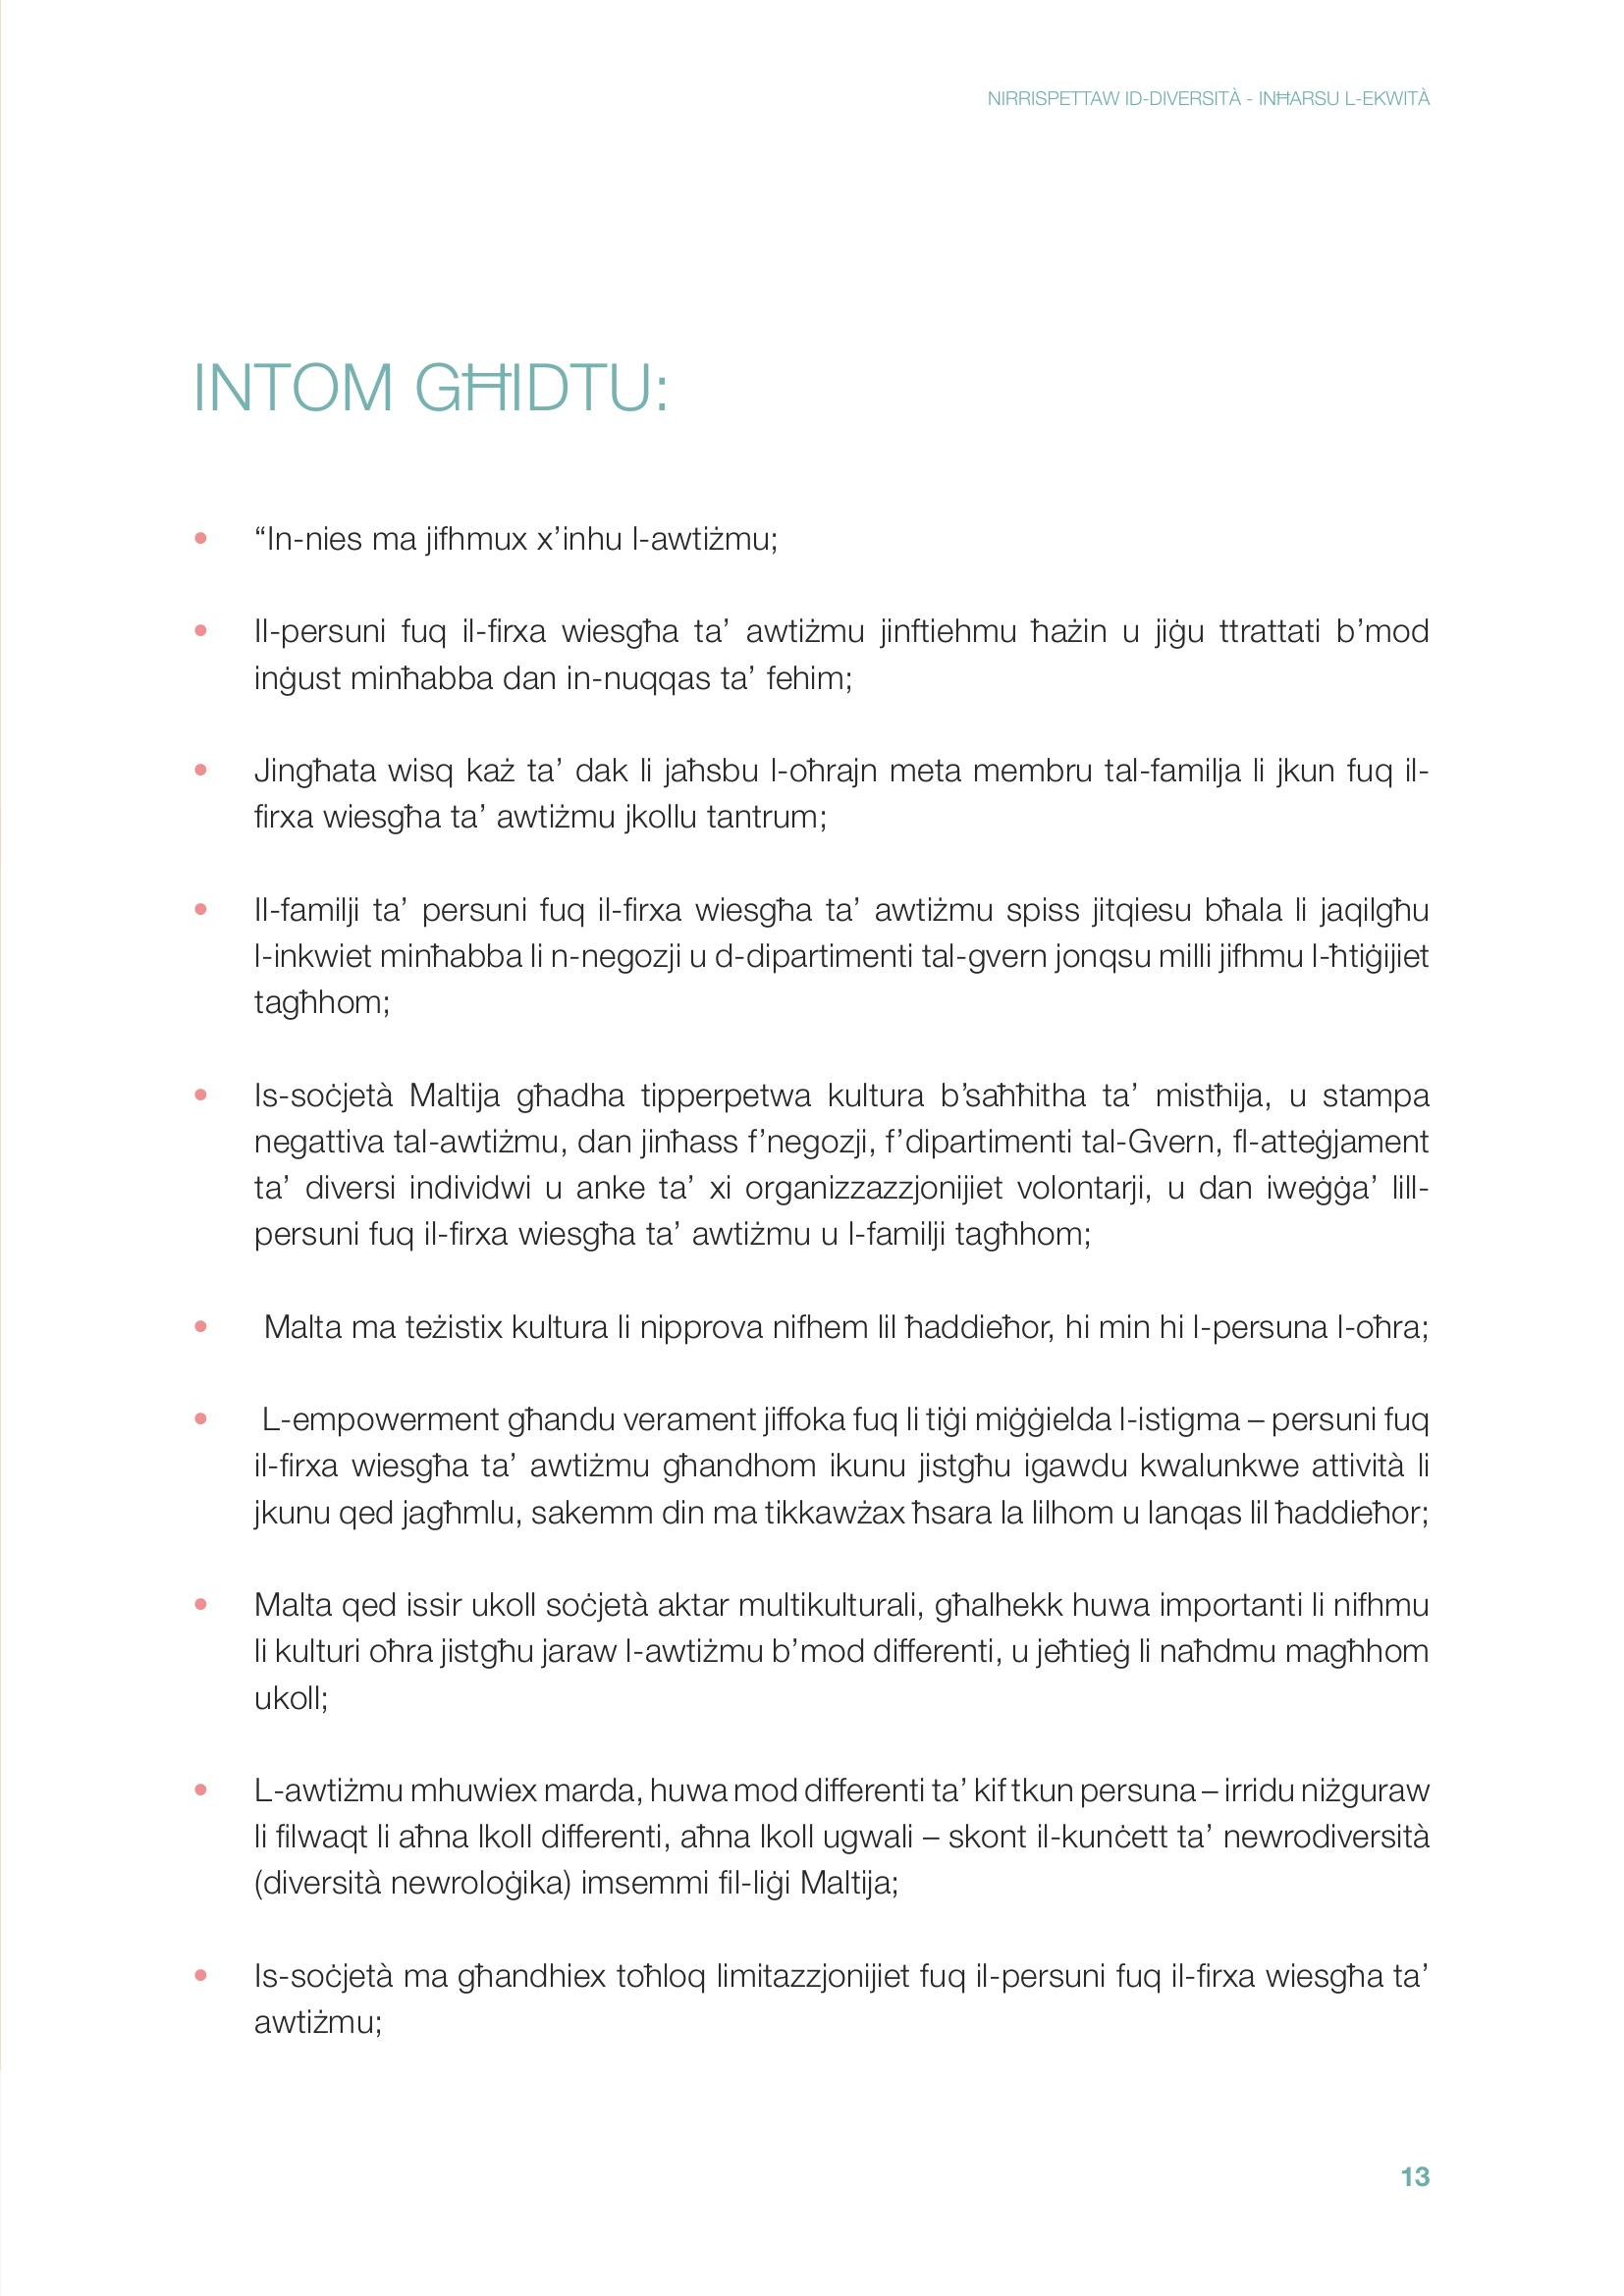text: (153, 336, 1454, 2064)
